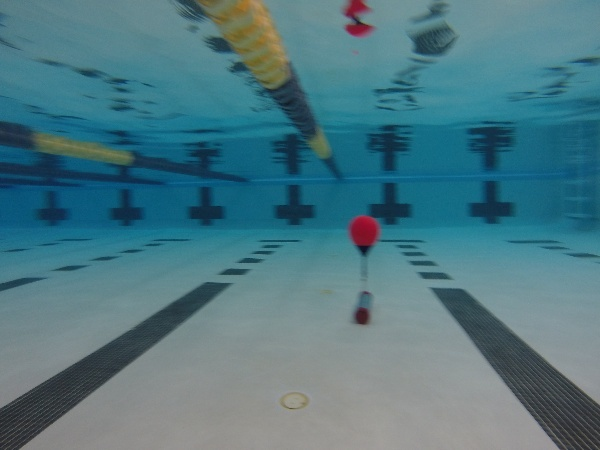buoy_red: (344, 212, 381, 258)
